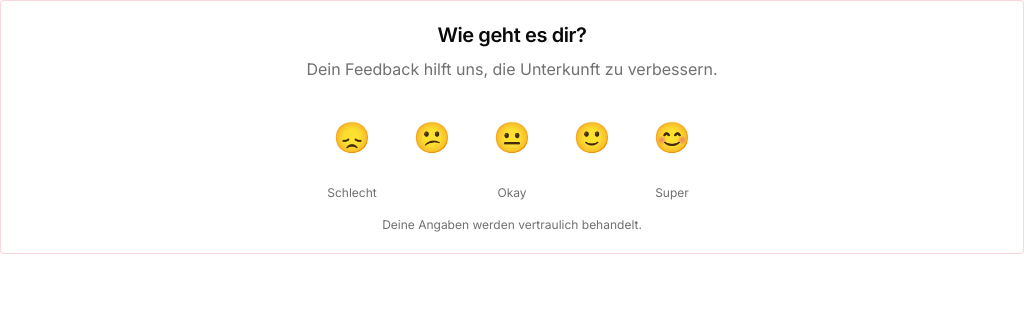
Test: SatisfactionRating › does not show concerns field for rating 3
This screenshot has width=1024, height=331.
What coordinates should you click on to do the following:
click the button named "Neutral"
I would click on:
 (512, 137)
Its box is left=480, top=105, right=544, bottom=169.
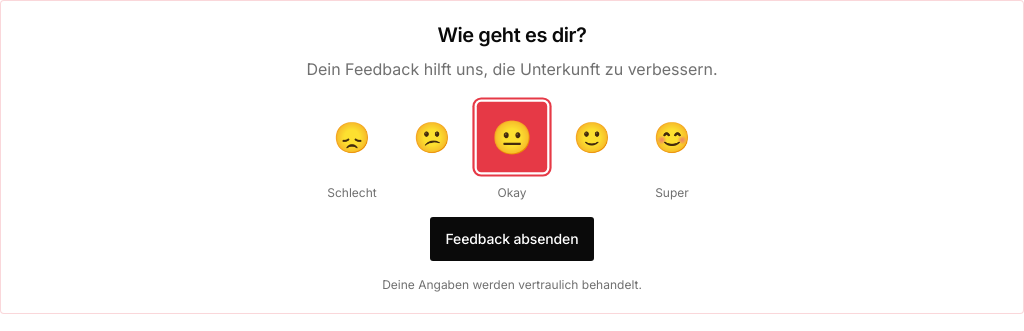
Check: the button "Feedback absenden" is shown, box left=430, top=217, right=594, bottom=261
